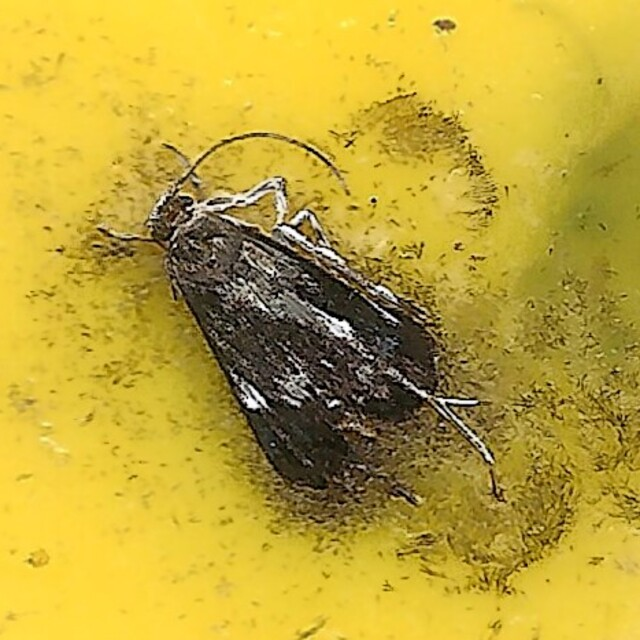Lepidoptera: (137, 132, 503, 508)
